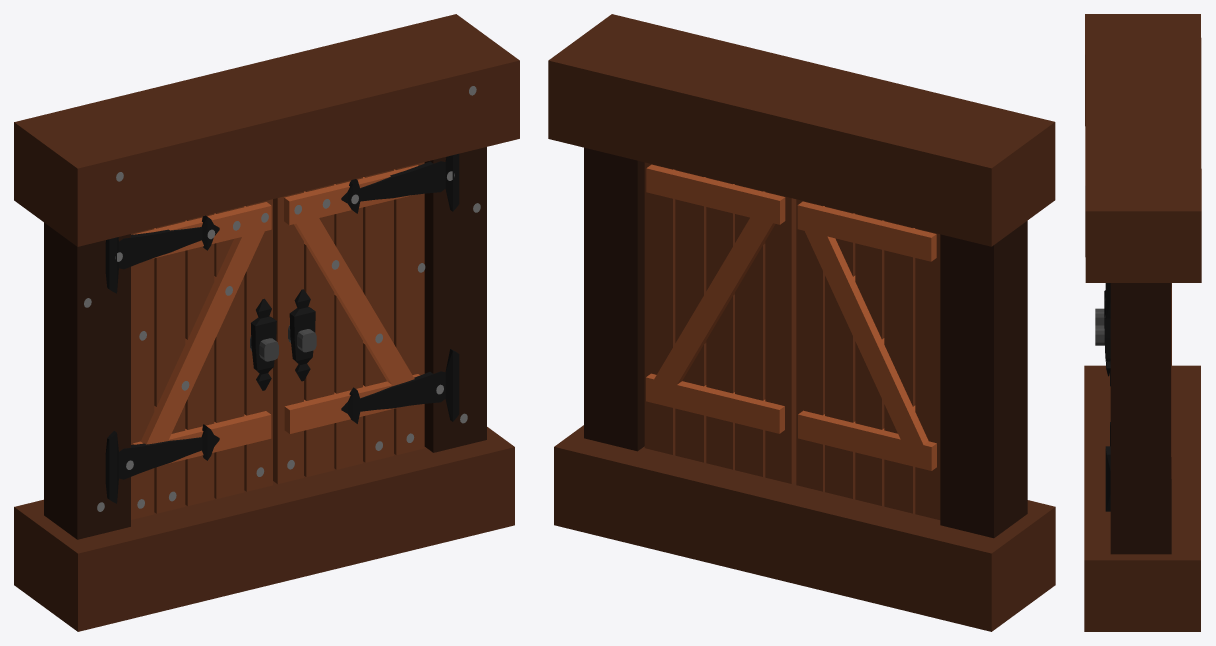
File: Janela.fbx
The picture shows the model from 3 angles, left to right: view 1: azimuth 30°, elevation 25°; view 2: azimuth 150°, elevation 25°; view 3: azimuth 270°, elevation 25°; orthographic projection. The views are drawn at different scales.
Visible parts, largest first — view 1: Janela_LoPo; view 2: Janela_LoPo; view 3: Janela_LoPo.
Part boxes in pixels (<box>): Janela_LoPo: <box>14,14,519,631</box>; Janela_LoPo: <box>548,14,1055,631</box>; Janela_LoPo: <box>1084,14,1201,631</box>.
Size of the model in its own units: 400 by 400 by 100.
